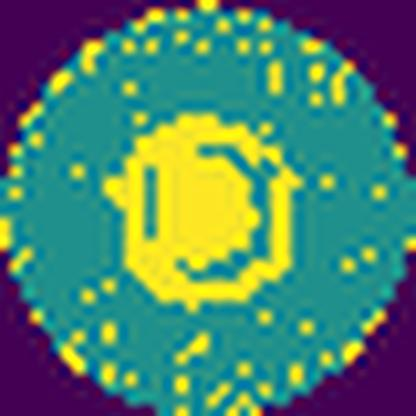Center: (104, 113, 297, 311)
